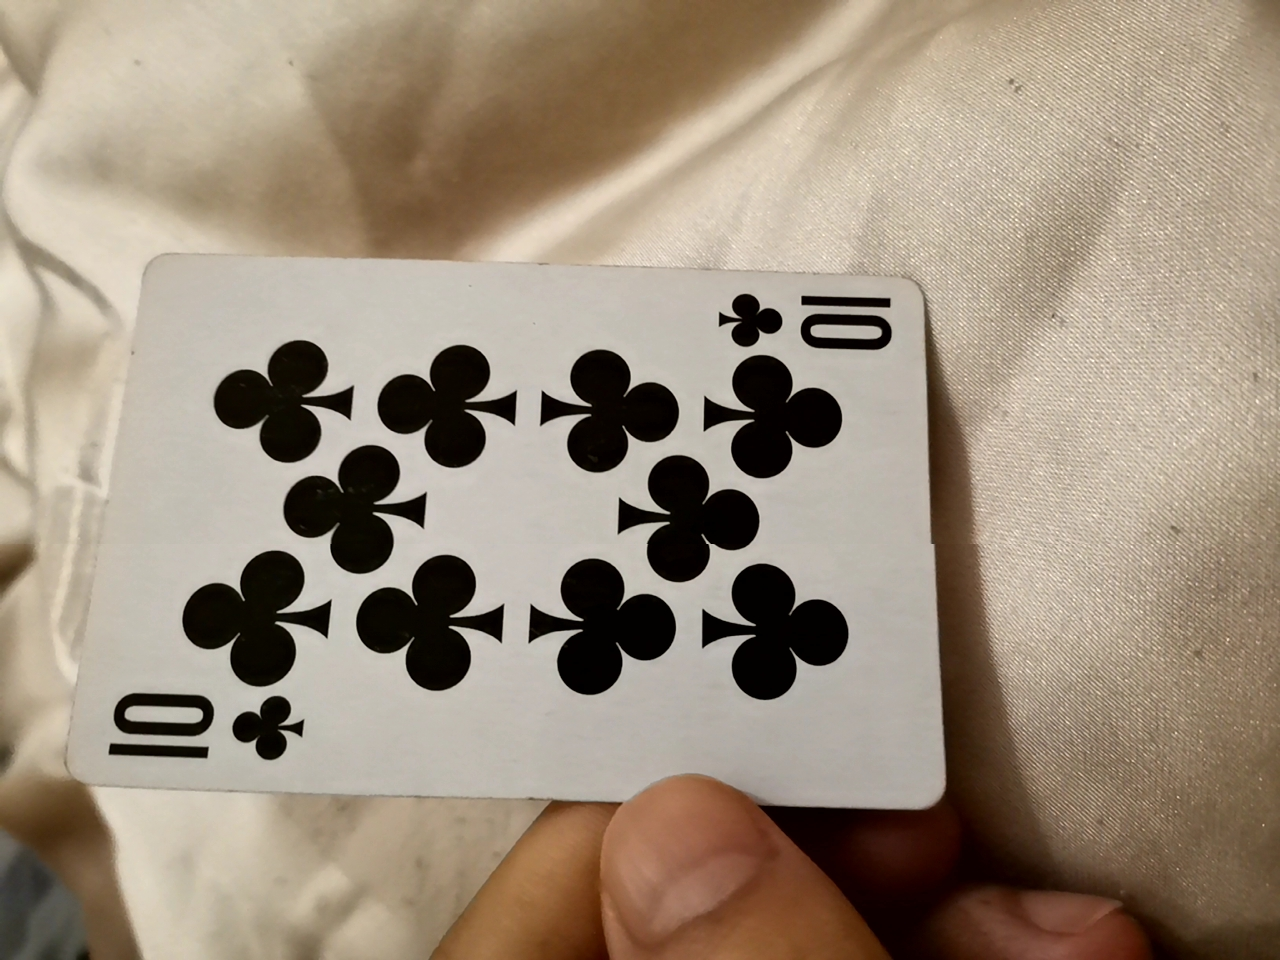mh 10: (80, 243, 928, 813)
